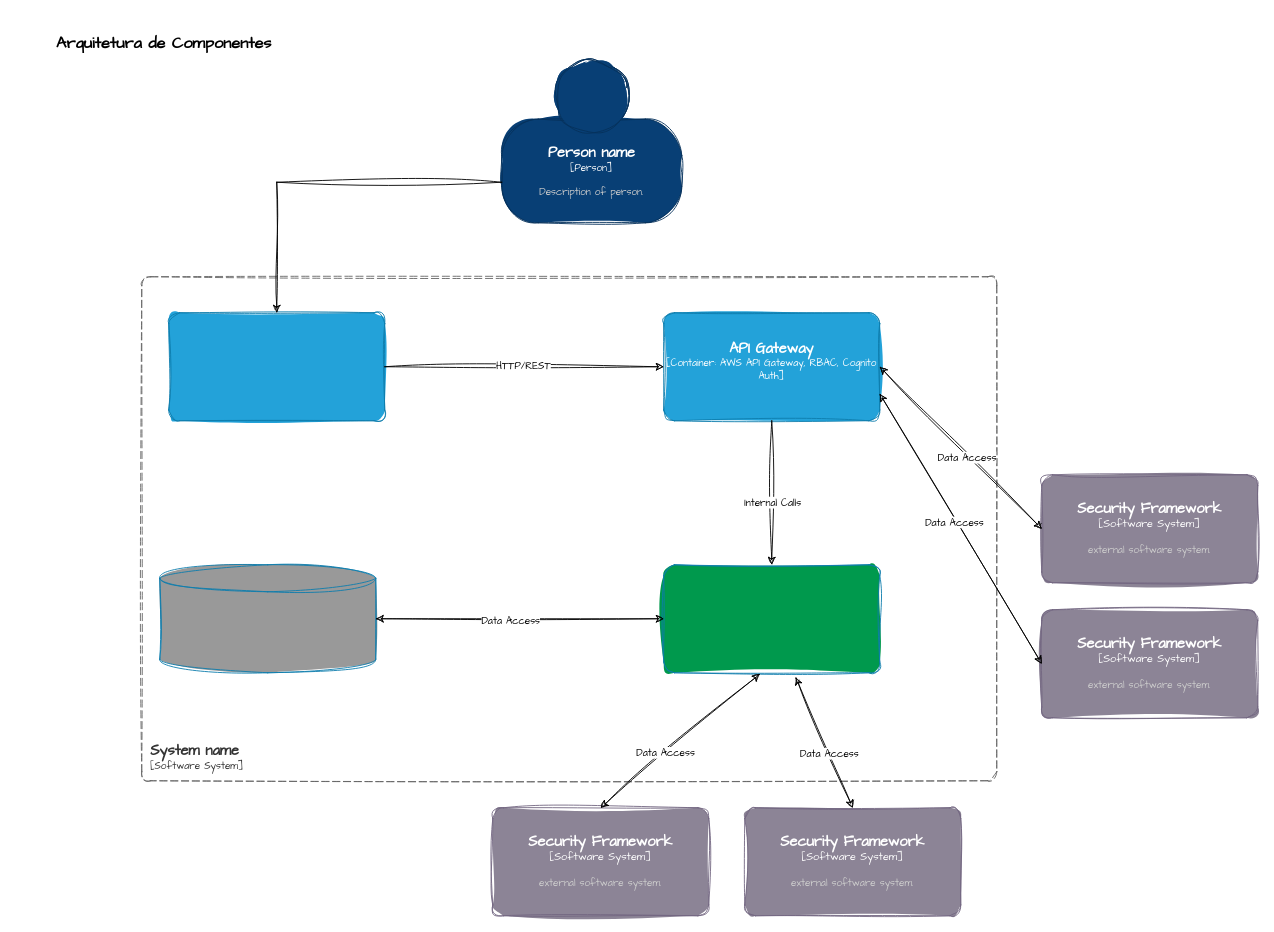
Some shapes in this 1274 by 932 pixel diagram are drawn without their labels. The centre of each missing label's shape, as x and y in pixels:
"Backend Services [Container: Microservices]" goes at [771,618].
"Databases & Storage [Container: PostgreSQL, S3]" goes at [267,618].
"Frontend (Web App) [Container: React-based UI, Project/Control Input]" goes at [276,366].
